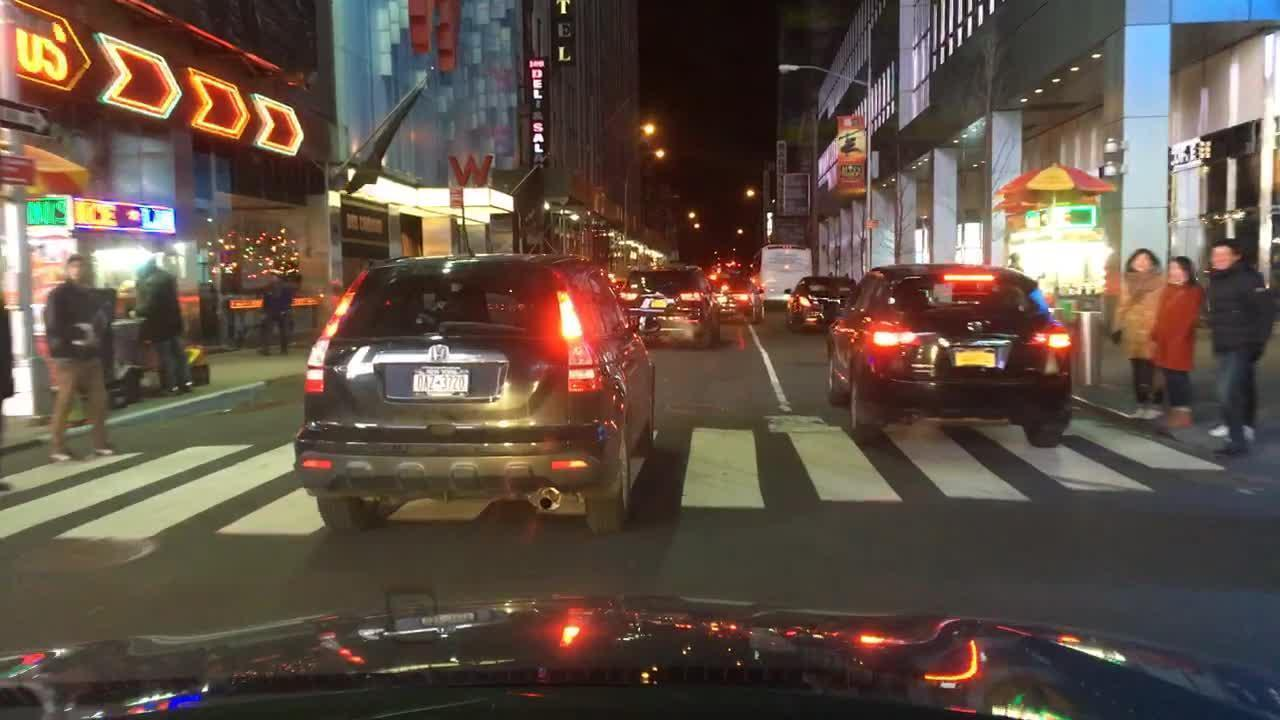Honda: (428, 340, 452, 365)
